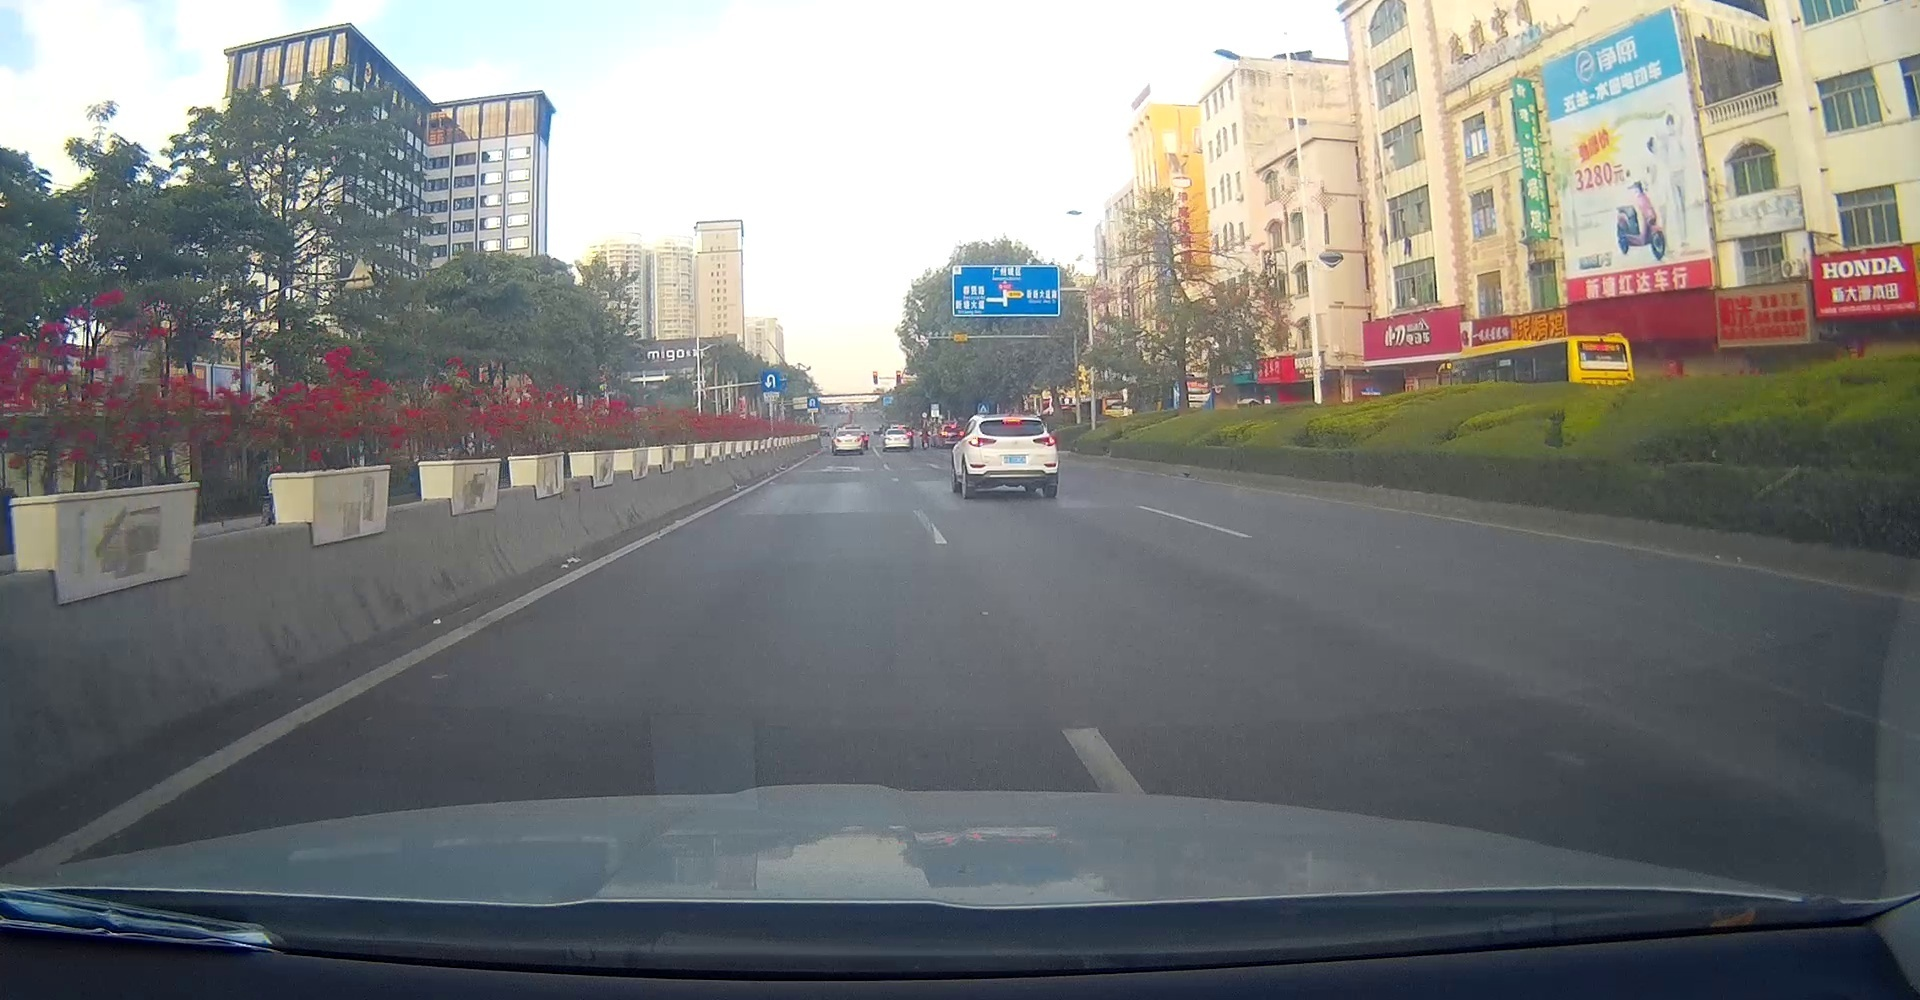L_light: (968, 437, 996, 447), (834, 439, 841, 443), (885, 438, 891, 440)
R_light: (1032, 437, 1057, 447), (855, 437, 861, 442), (903, 437, 909, 440)
T_light: (1002, 418, 1021, 425), (844, 430, 850, 433), (897, 430, 902, 431)
day-brake: (968, 414, 1059, 497)
day-no: (834, 430, 862, 454), (884, 428, 912, 452)
